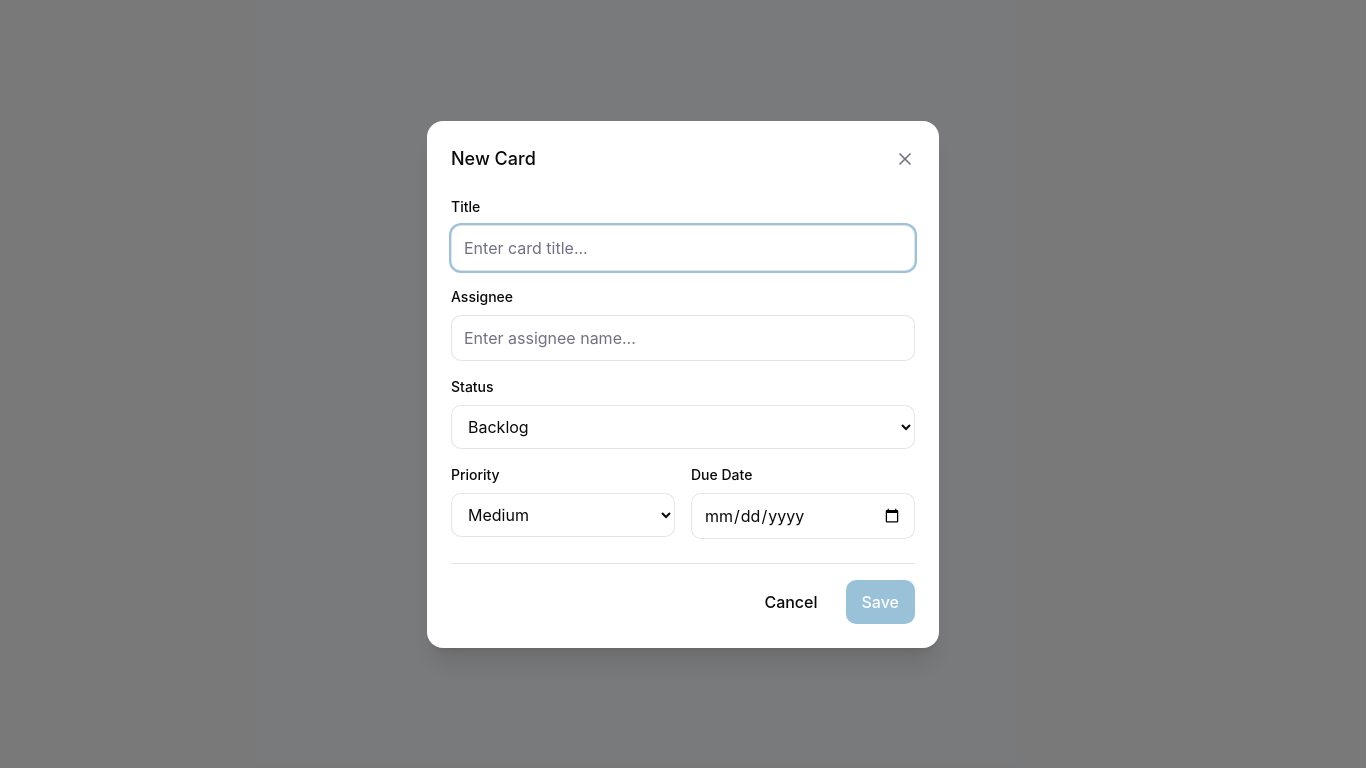
Scenario: CardModal › disables Save until title, assignee and due date are all filled
This screenshot has width=1366, height=768.
Expected: the button "Save" is disabled, left=846, top=580, right=915, bottom=624
Type "New card" into the field with placeholder "Enter card title...".
click(683, 248); type("New card")  # box left=451, top=224, right=915, bottom=270
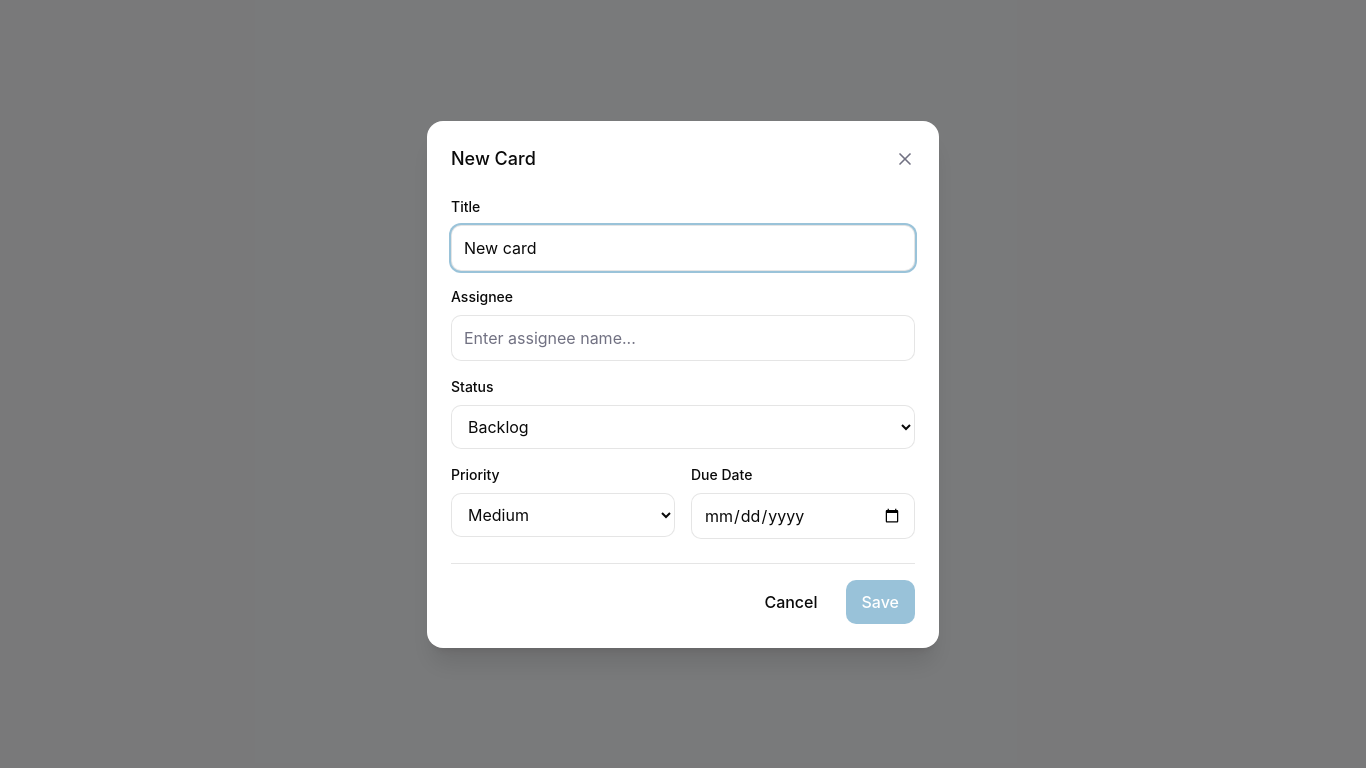
Expected: the button "Save" is disabled, left=846, top=580, right=915, bottom=624
Type "Grace" into the field with placeholder "Enter assignee name...".
click(683, 338); type("Grace")  # box left=451, top=314, right=915, bottom=360
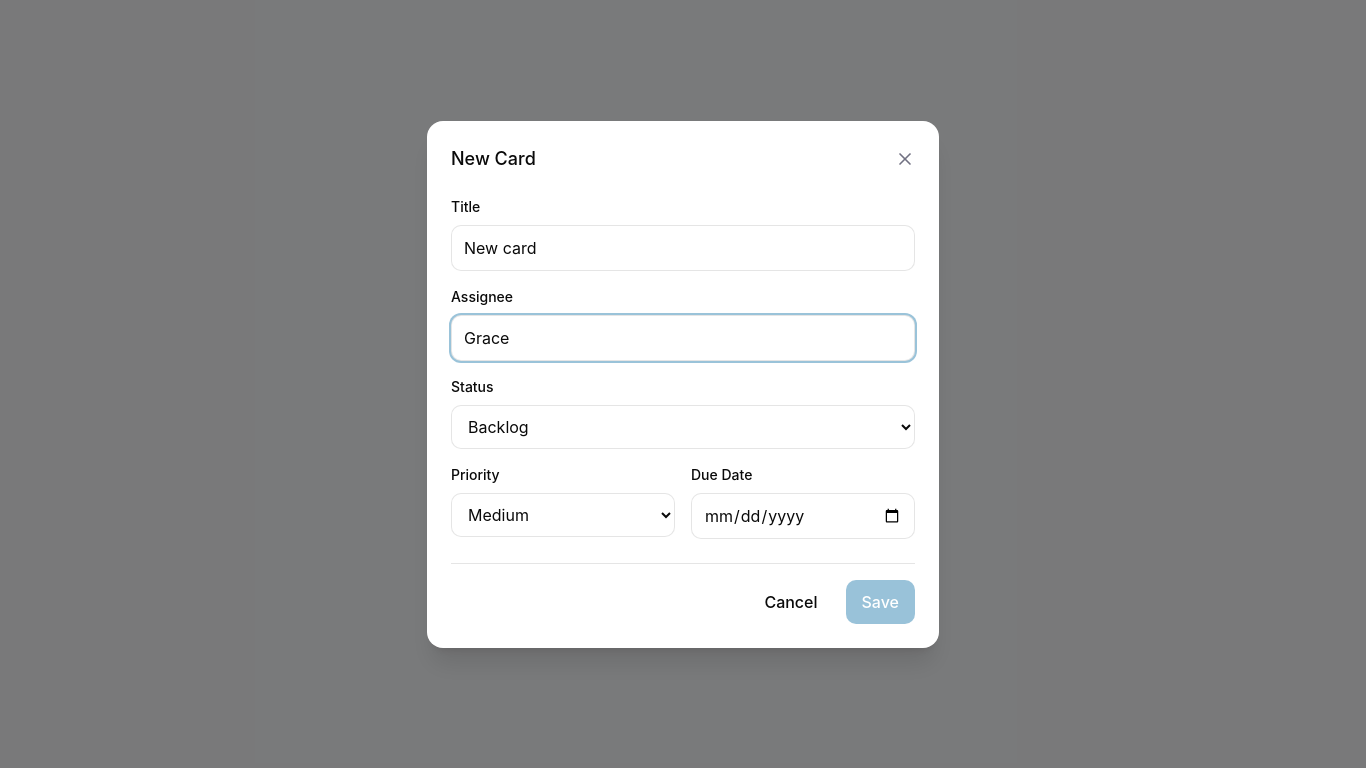
Expected: the button "Save" is disabled, left=846, top=580, right=915, bottom=624
Type "2026-11-01" into the date field labelled "Due Date".
click(803, 516); type("2026-11-01")  # box left=691, top=492, right=915, bottom=538
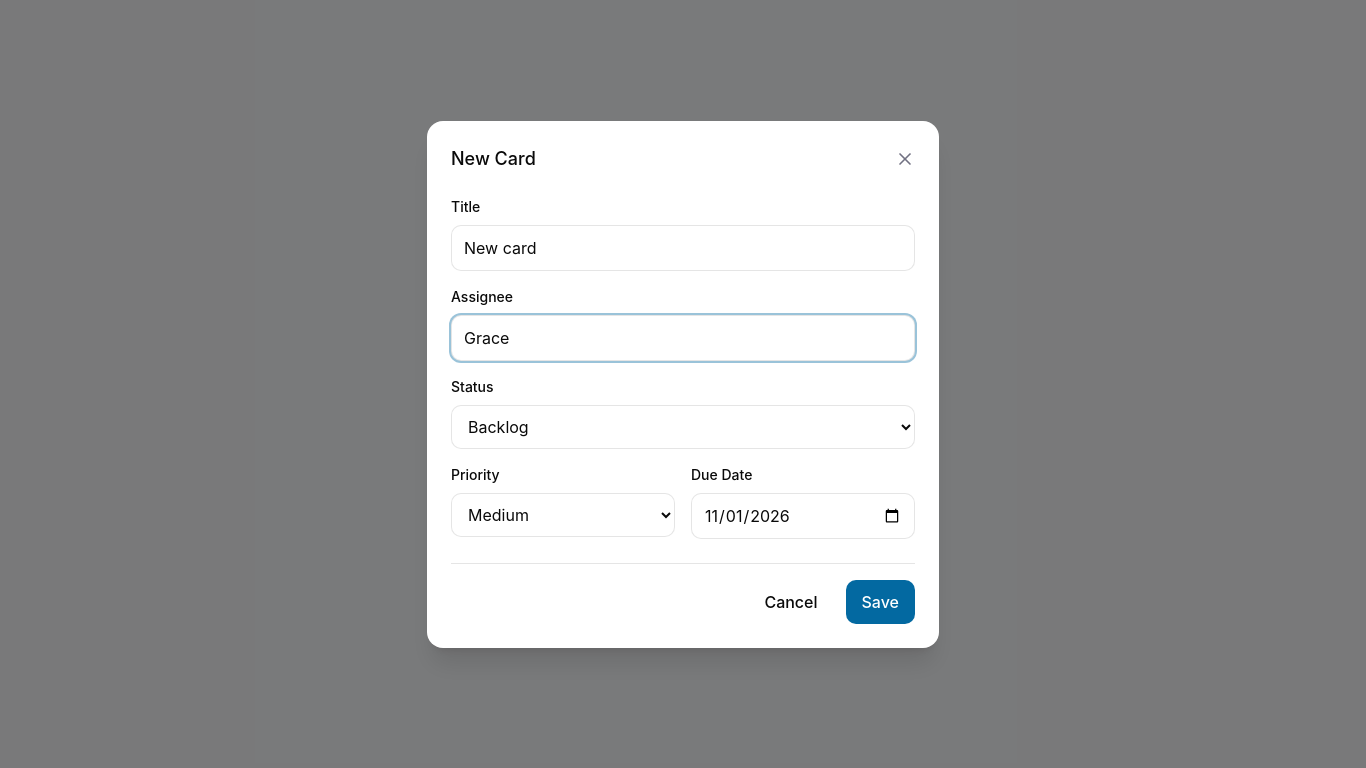
Expected: the button "Save" is enabled, left=846, top=580, right=915, bottom=624
